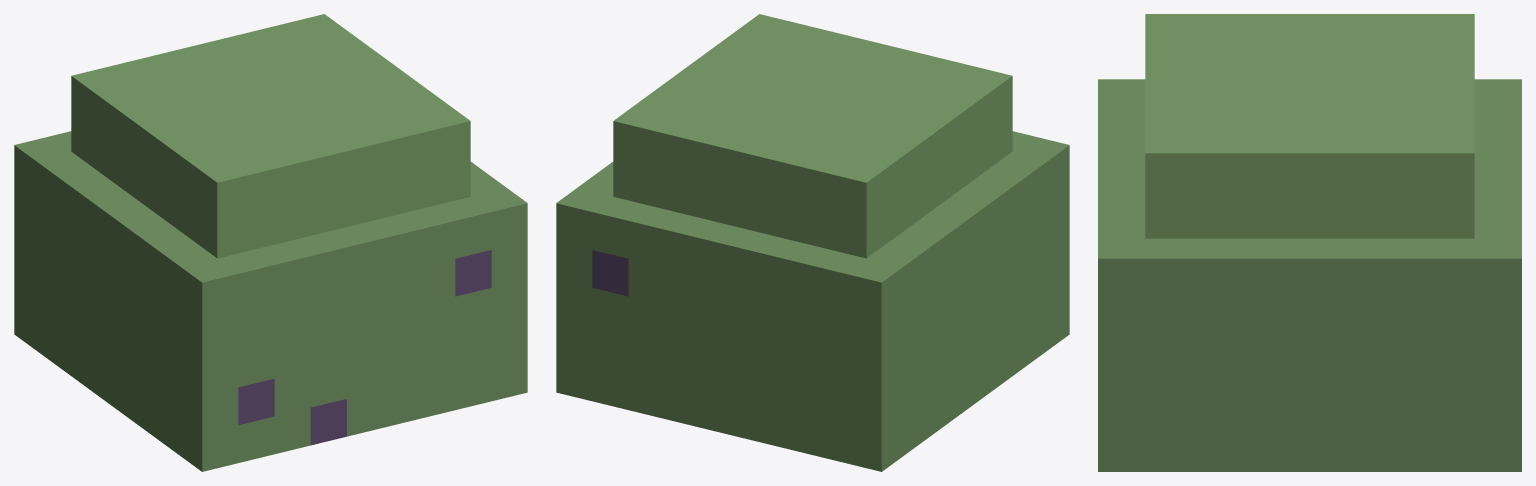
Rendered from sauco_04.glb.
3 views of the same model, side by side, from view 1: azimuth 30°, elevation 25°; view 2: azimuth 150°, elevation 25°; view 3: azimuth 270°, elevation 25° (orthographic). The views are drawn at different scales.
Parts seen in each view (by area): view 1: sauco_04; view 2: sauco_04; view 3: sauco_04.
Part boxes in pixels (<box>): sauco_04: <box>14,14,527,471</box>; sauco_04: <box>556,14,1069,471</box>; sauco_04: <box>1098,14,1521,471</box>.
Bounding box in the file's own units: 0.9 × 0.7 × 0.9.
